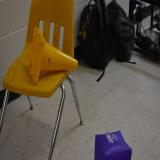cone: (28, 26, 78, 84)
cube: (94, 130, 132, 160)
